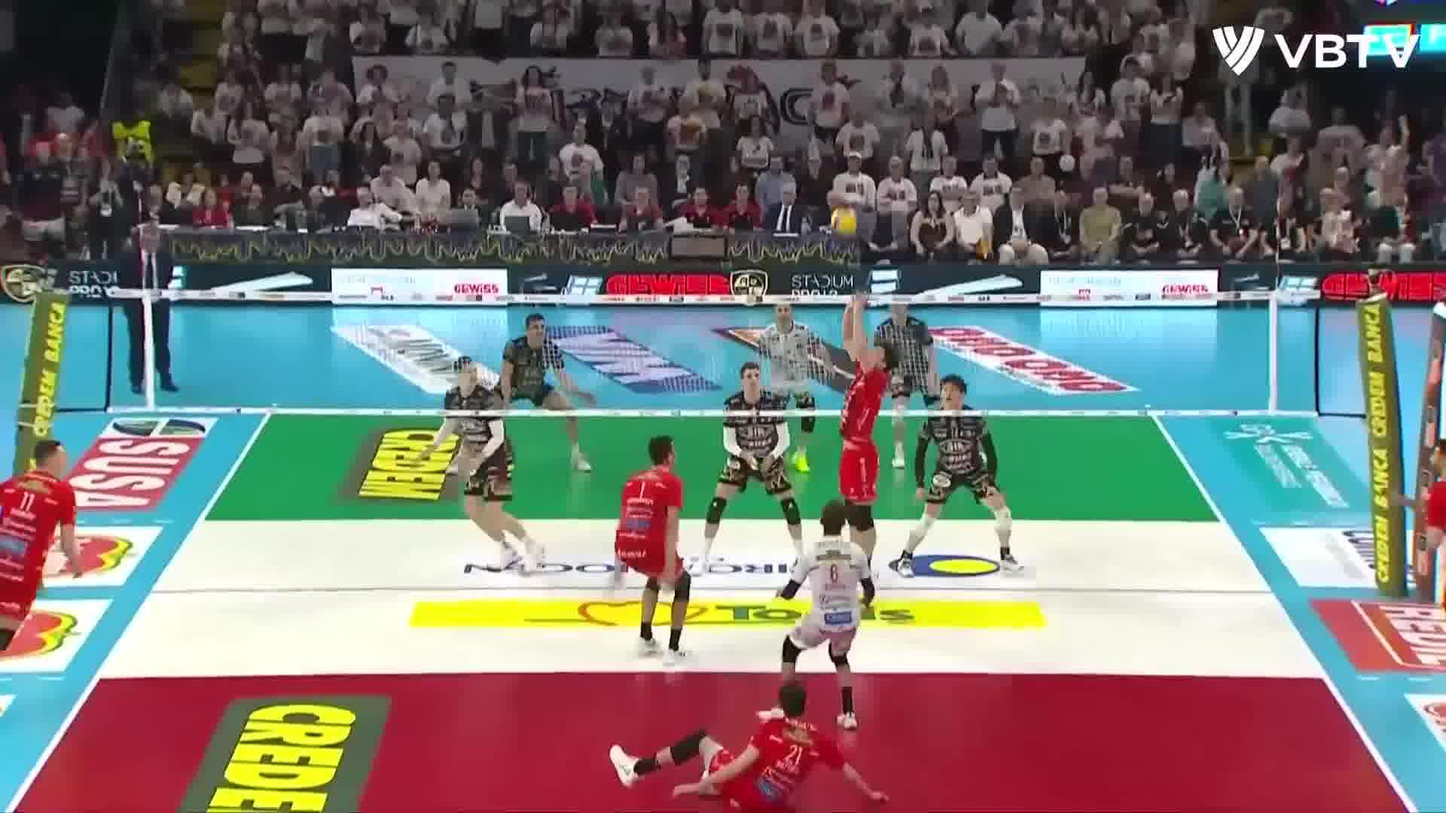balls: (831, 207, 859, 235)
